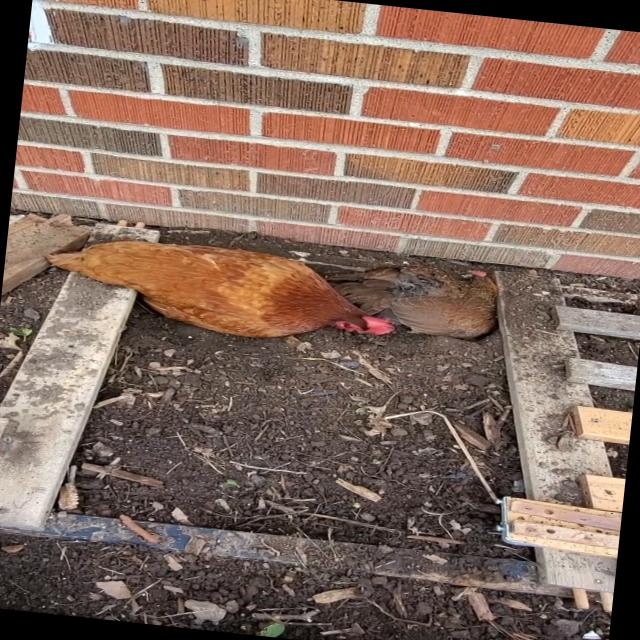stand bath: (26, 222, 400, 357), (336, 252, 514, 352)
